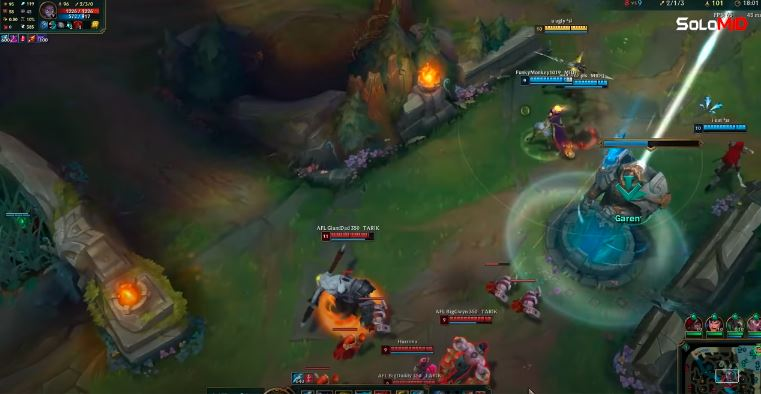bar: (379, 342, 435, 357), (534, 22, 591, 35), (378, 373, 437, 385), (319, 230, 377, 242), (441, 313, 494, 326), (519, 73, 575, 85), (694, 122, 749, 134), (556, 76, 610, 88)
